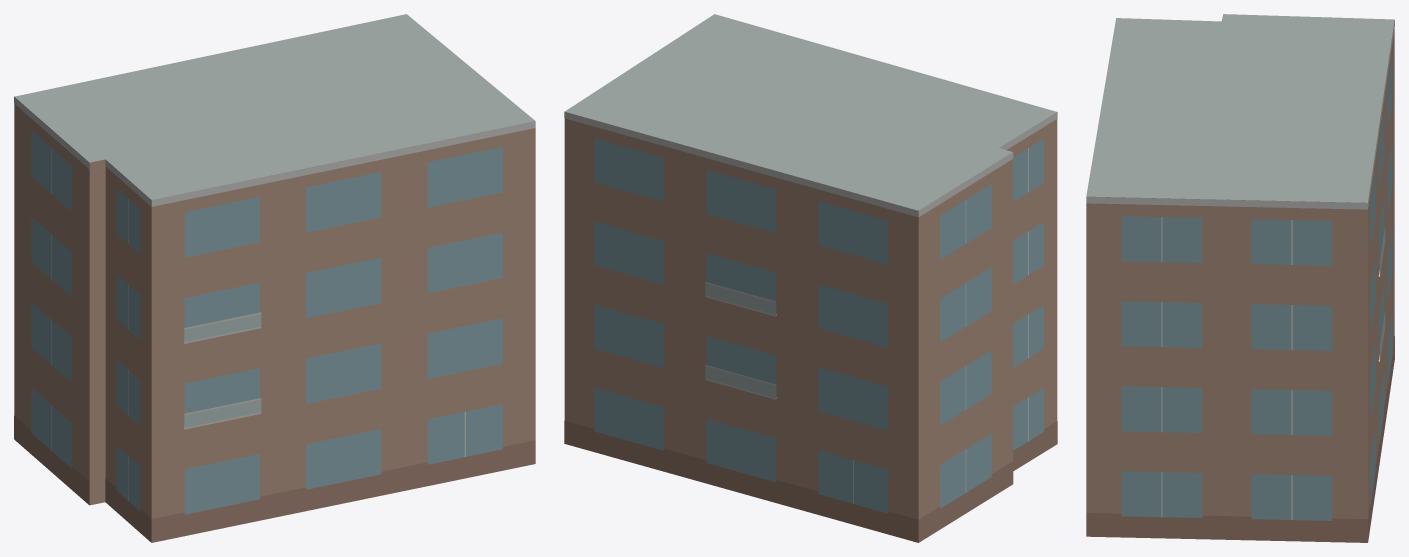
The model's file is survey-upis-32652698.glb.
The picture shows the model from 3 angles, left to right: view 1: azimuth 30°, elevation 25°; view 2: azimuth 150°, elevation 25°; view 3: azimuth 270°, elevation 25°; orthographic projection. The views are drawn at different scales.
Parts seen in each view (by area): view 1: survey-upis-32652698.tmp; view 2: survey-upis-32652698.tmp; view 3: survey-upis-32652698.tmp.
Part boxes in pixels (left/top/right/bottom): survey-upis-32652698.tmp: left=14, top=14, right=535, bottom=542; survey-upis-32652698.tmp: left=564, top=14, right=1057, bottom=542; survey-upis-32652698.tmp: left=1086, top=14, right=1394, bottom=542.
Size of the model in its own units: 14.54 by 12.2 by 10.04.
